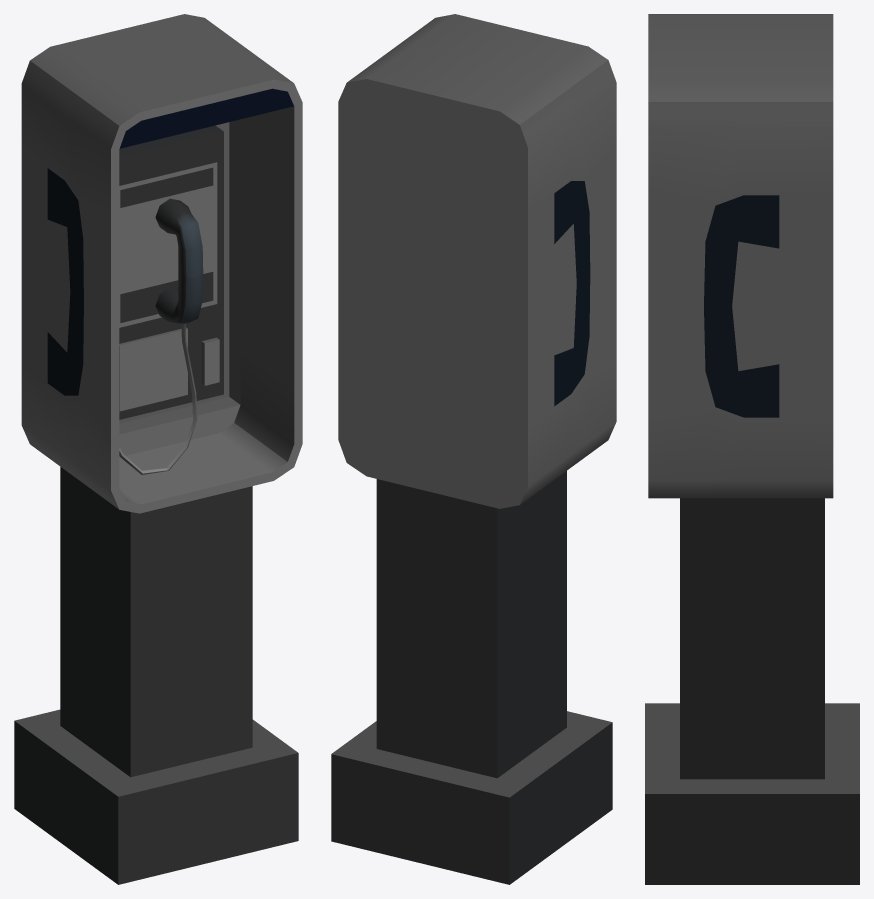
File: TelephoneBooth_Regular.fbx
The picture shows the model from 3 angles, left to right: view 1: azimuth 30°, elevation 25°; view 2: azimuth 150°, elevation 25°; view 3: azimuth 270°, elevation 25°; orthographic projection. The views are drawn at different scales.
Visible parts, largest first — view 1: TelephoneBooth_Regular; view 2: TelephoneBooth_Regular; view 3: TelephoneBooth_Regular.
Boxes of the visible parts, x1,y1,x2,y2 form: TelephoneBooth_Regular: (14,14,302,884); TelephoneBooth_Regular: (331,14,616,884); TelephoneBooth_Regular: (645,14,859,884).
Bounding box in the file's own units: 50.48 × 193 × 47.39.
